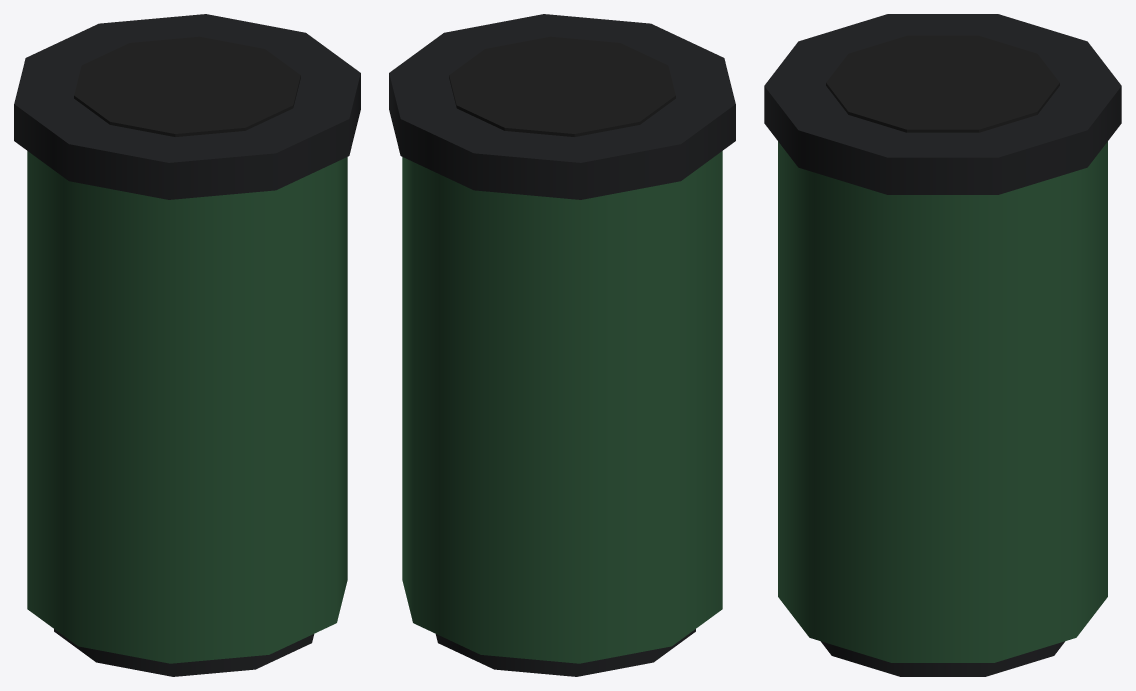
File: litter_bin.glb
The picture shows the model from 3 angles, left to right: view 1: azimuth 30°, elevation 25°; view 2: azimuth 150°, elevation 25°; view 3: azimuth 270°, elevation 25°; orthographic projection.
Parts seen in each view (by area): view 1: litter_bin; view 2: litter_bin; view 3: litter_bin.
Boxes of the visible parts, <box> form: litter_bin: <box>14,14,360,676</box>; litter_bin: <box>389,14,735,676</box>; litter_bin: <box>764,14,1121,676</box>.
Size of the model in its own units: 0.4945 by 0.865 by 0.52.
1 material, 1 textured.
